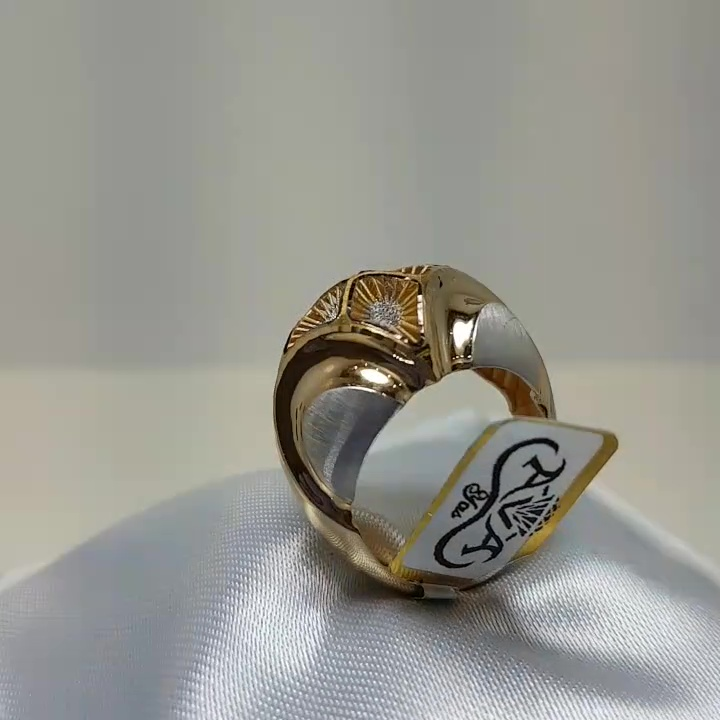Ring 2: (238, 248, 576, 618)
